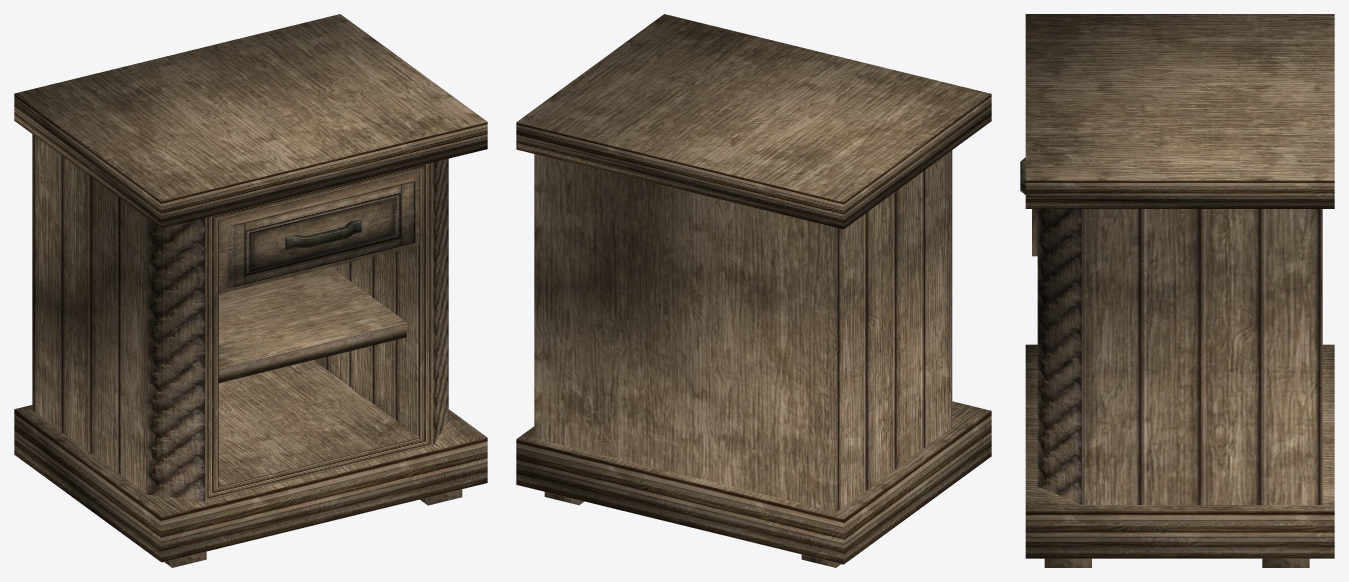
Rendered from GS_VOB_BEDCASE_YELLOW_02_2_KOZA.glb.
The picture shows the model from 3 angles, left to right: view 1: azimuth 30°, elevation 25°; view 2: azimuth 150°, elevation 25°; view 3: azimuth 270°, elevation 25°; orthographic projection. The views are drawn at different scales.
Visible parts, largest first — view 1: Mesh; view 2: Mesh; view 3: Mesh.
Part boxes in pixels (x1,y1,x2,y2): Mesh: [14, 14, 487, 567]; Mesh: [516, 14, 991, 567]; Mesh: [1020, 14, 1334, 567].
Size of the model in its own units: 0.8159 by 0.9034 by 0.6504.
Materials: 5 (5 with a texture image).
